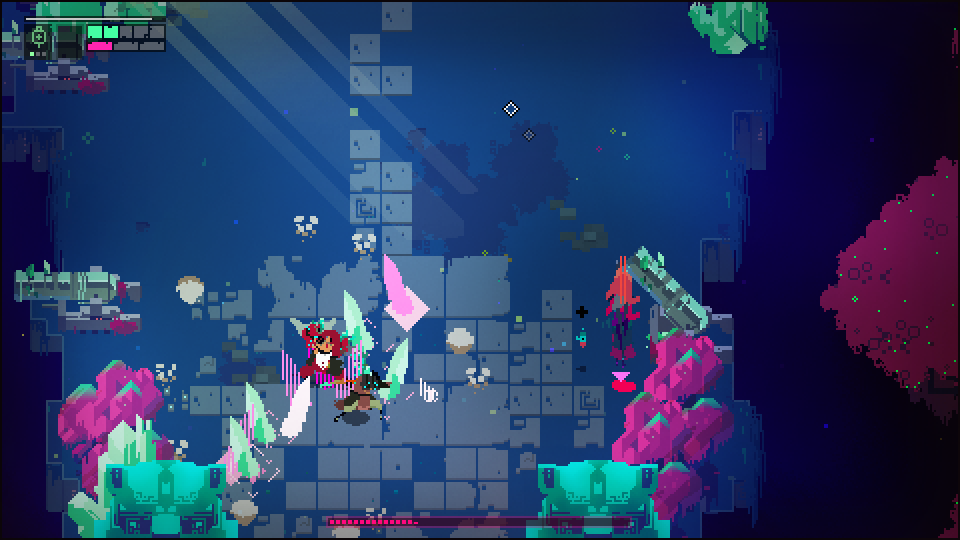hanged_crys: (379, 253, 414, 314), (338, 288, 373, 349), (380, 337, 415, 398), (279, 379, 314, 440), (239, 380, 274, 441), (224, 411, 259, 472)
hanged_man: (285, 317, 370, 382)
player: (600, 250, 640, 316)
